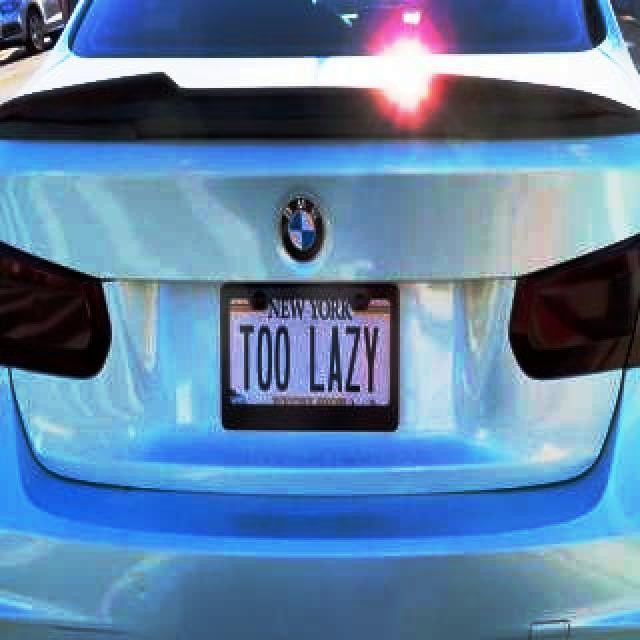license_plate: (217, 280, 409, 439)
